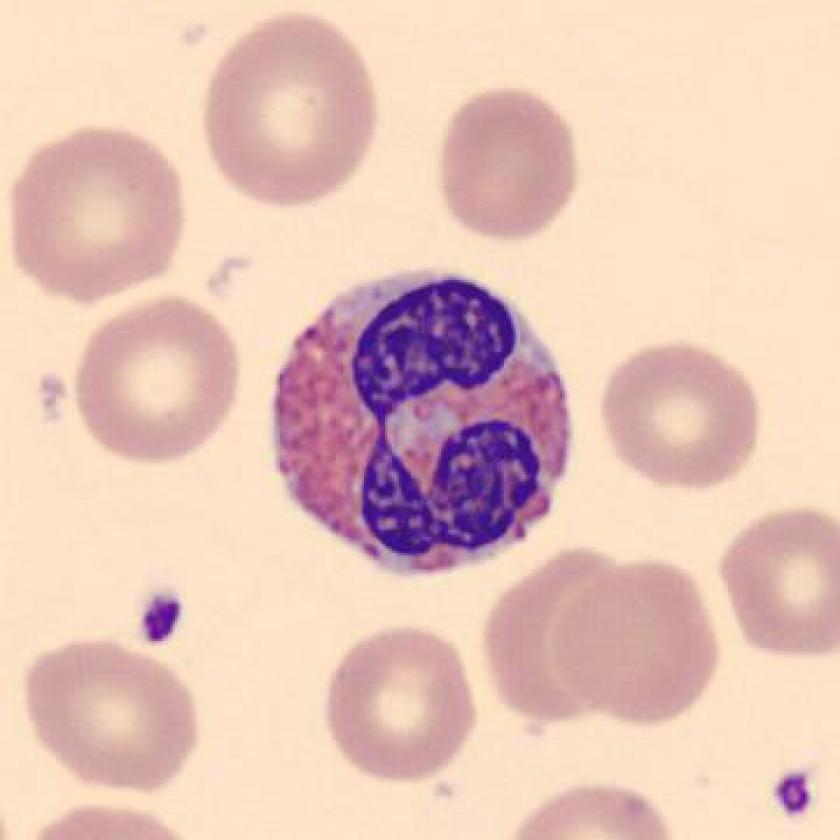eosinophil: (265, 253, 582, 589)
